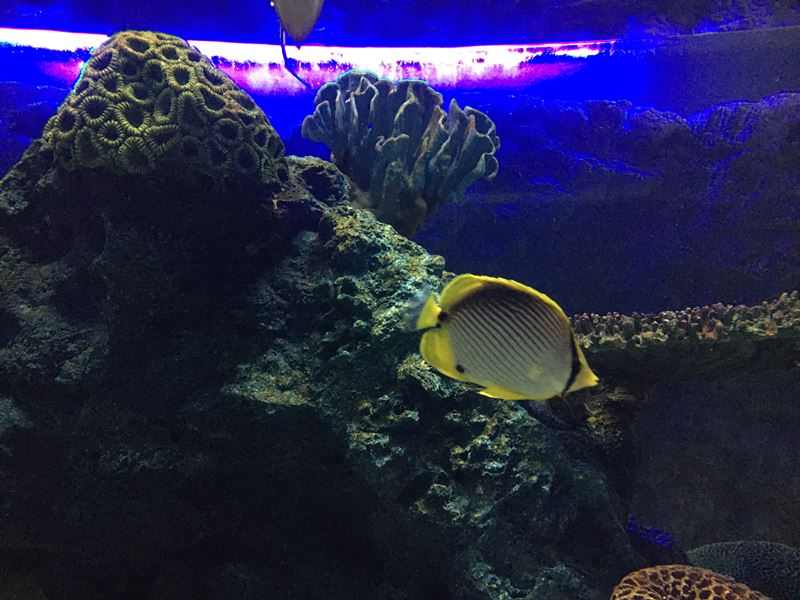Black-backed butterflyfish: (392, 262, 609, 411)
